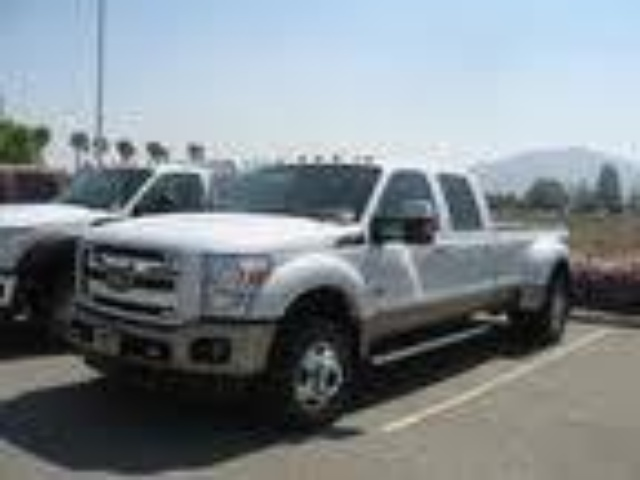Xe_hoi: (78, 148, 579, 426)
